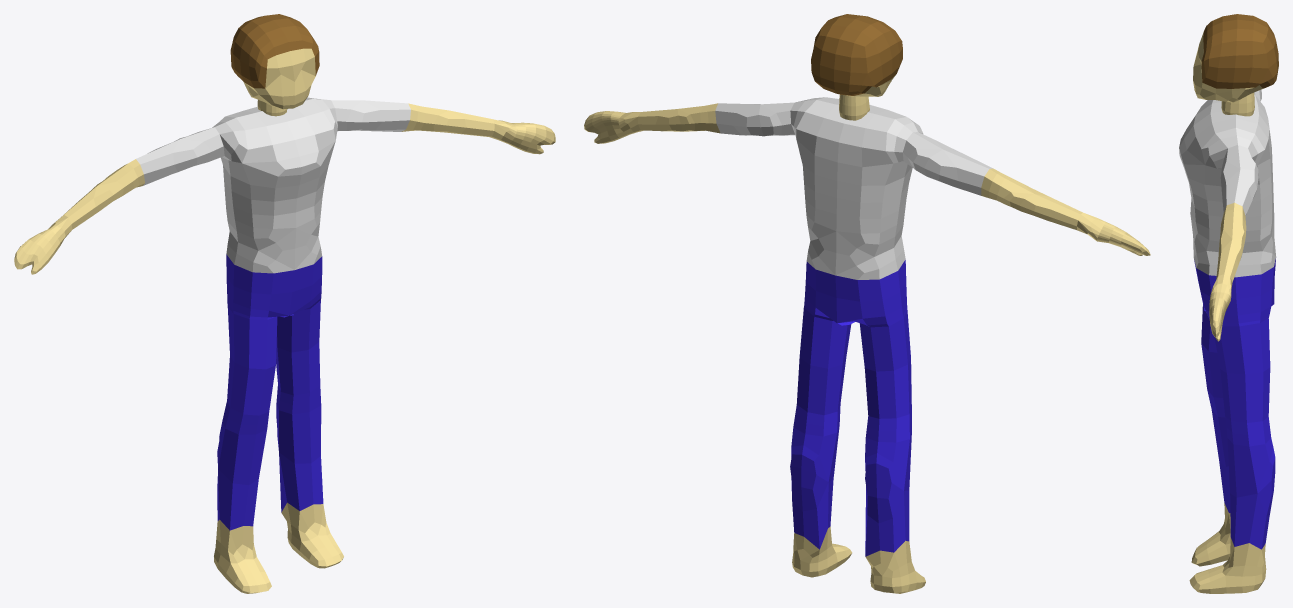
File: mother.fbx
The picture shows the model from 3 angles, left to right: view 1: azimuth 30°, elevation 25°; view 2: azimuth 150°, elevation 25°; view 3: azimuth 270°, elevation 25°; orthographic projection. The views are drawn at different scales.
Visible parts, largest first — view 1: 2.001; view 2: 2.001; view 3: 2.001.
Boxes of the visible parts, <box> form: 2.001: <box>14,14,555,593</box>; 2.001: <box>584,14,1150,593</box>; 2.001: <box>1179,14,1278,593</box>.
Size of the model in its own units: 1155 by 1118 by 181.
